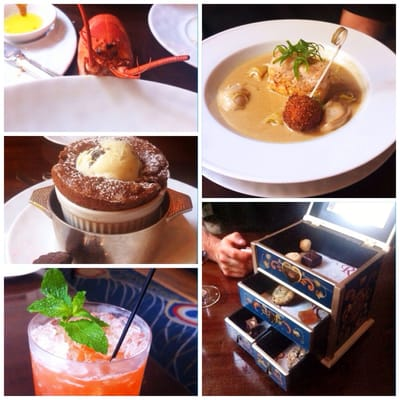salad: (308, 26, 348, 100)
sushi: (27, 306, 152, 394), (3, 1, 56, 45)
